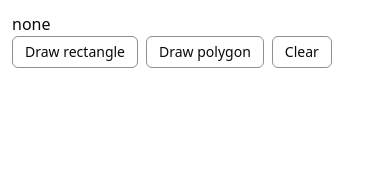
Test: DrawControls › names the buttons by their visible text and shows the active mode with aria-pressed
This screenshot has width=371, height=172.
Expected: the button "Clear" is shown, x1=272 y1=36 x2=332 y2=68
Click the button "Draw rectangle": click(75, 52) x1=12 y1=36 x2=138 y2=68
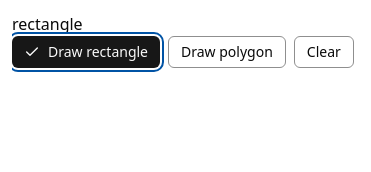
Result: the icon is shown at x1=24 y1=44 x2=40 y2=60
Result: the text with test id "mode" reads "rectangle" at x1=12 y1=13 x2=83 y2=35
Click the button "Draw polygon": click(227, 52) x1=168 y1=36 x2=286 y2=68
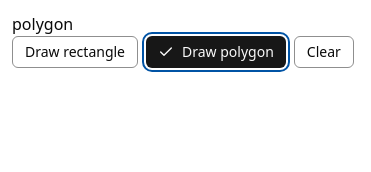
Result: the text with test id "mode" reads "polygon" at x1=12 y1=13 x2=73 y2=35
Note: Pressing the active button again leaves the mode.
Click the button "Draw polygon": click(216, 52) x1=146 y1=36 x2=286 y2=68
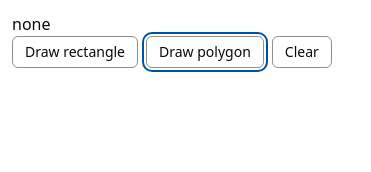
Result: the text with test id "mode" reads "none" at x1=12 y1=13 x2=50 y2=35
